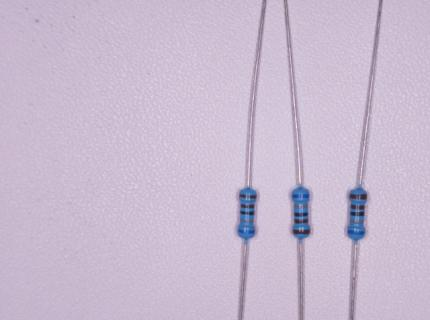Black band: (350, 211, 365, 216), (240, 210, 254, 215), (294, 212, 308, 217)
Blue band: (348, 229, 365, 235), (237, 229, 256, 234), (291, 193, 310, 198)
Brown band: (293, 229, 311, 235), (350, 193, 367, 199), (351, 204, 365, 210), (240, 203, 255, 208), (240, 194, 257, 198), (294, 219, 308, 223)
Grey band: (350, 219, 364, 224), (294, 204, 308, 209), (240, 219, 253, 223)
